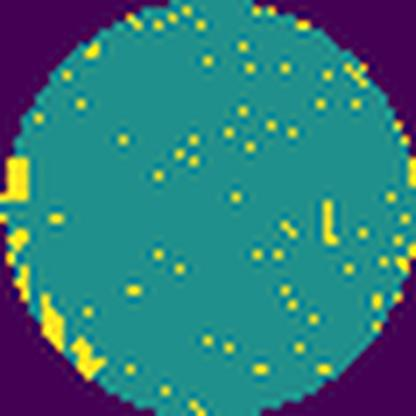Edge-Loc: (0, 149, 29, 207), (39, 294, 67, 353), (74, 338, 104, 382)
